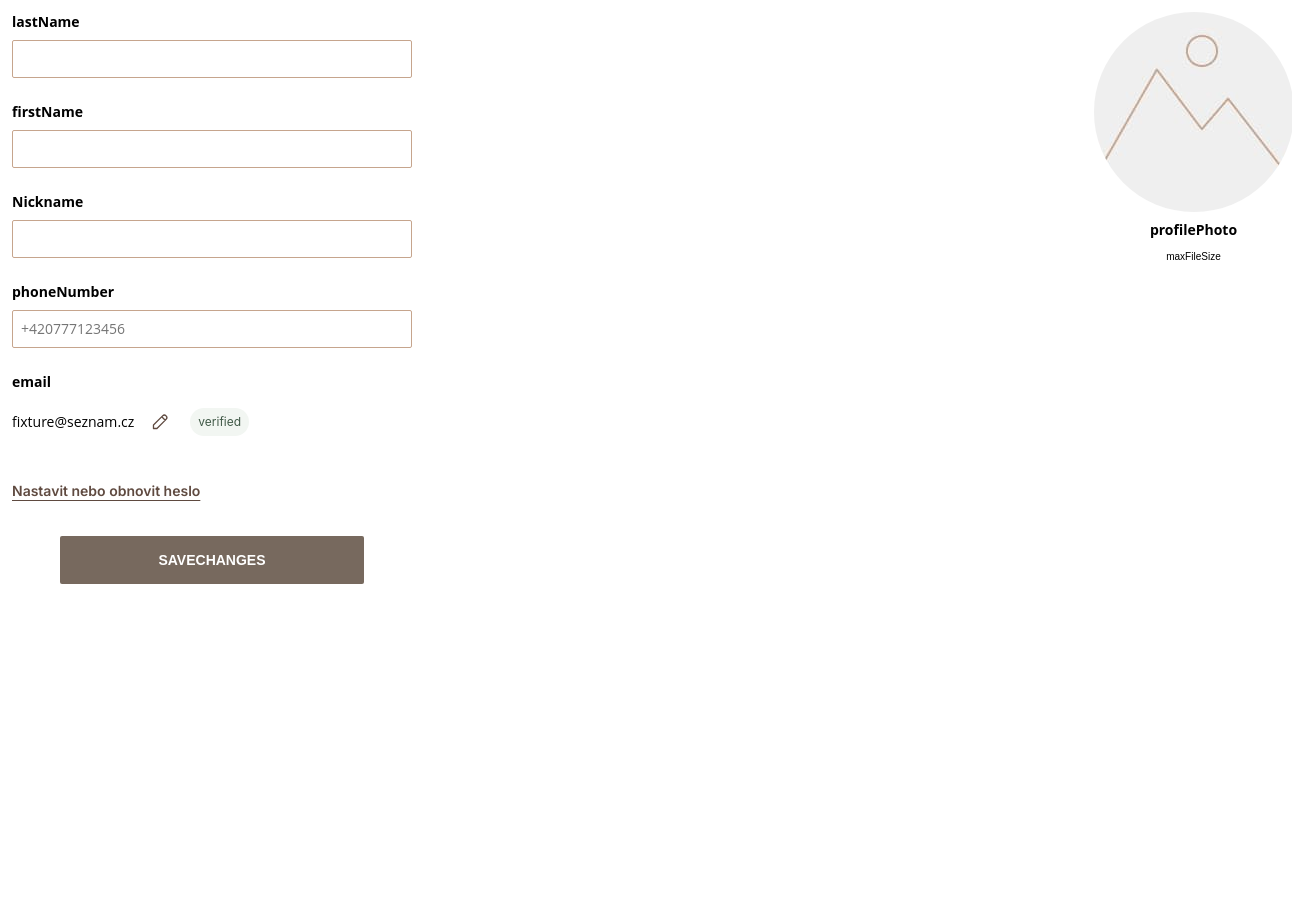
Test: repeat profile save is available and a server error is shown next to the form
Type "Mykhailo" into the field labelled "firstName" at {"x": 212, "y": 149}, box [12,130,412,168]
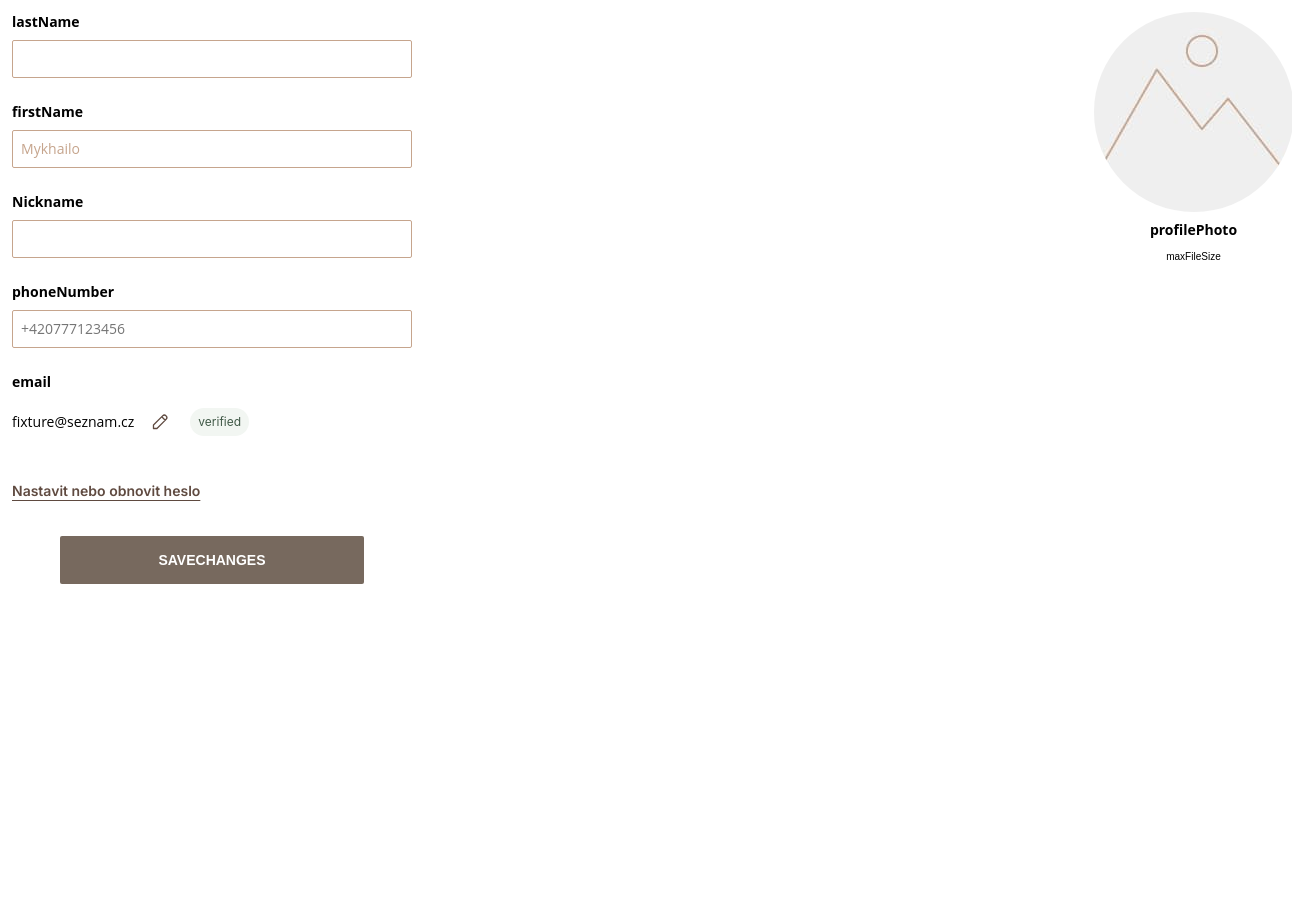
Type "Stryzhka" into the field labelled "lastName" at {"x": 212, "y": 59}, box [12,40,412,78]
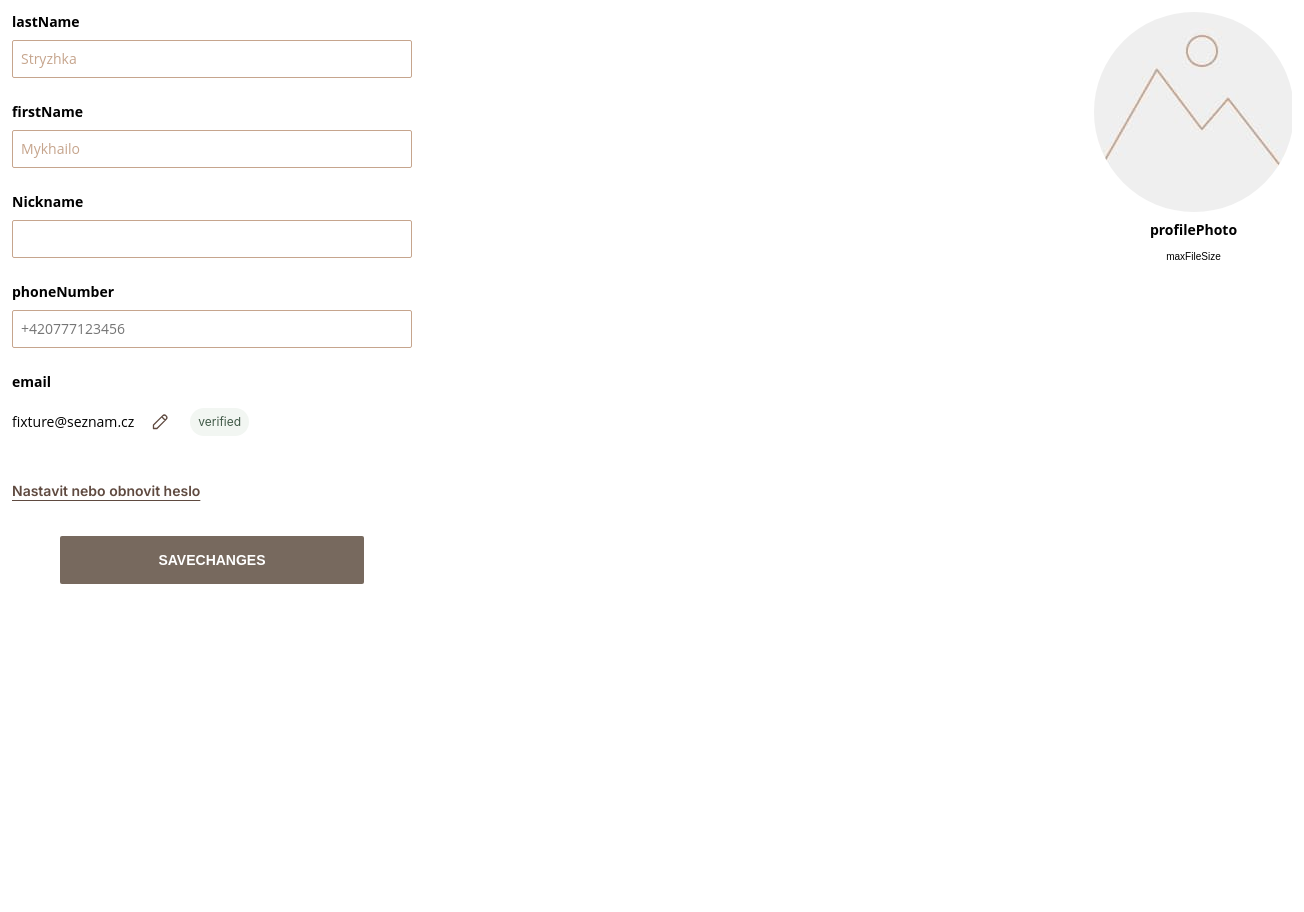
Type "@mykhailo.test" into the field labelled "Nickname" at {"x": 212, "y": 239}, box [12,220,412,258]
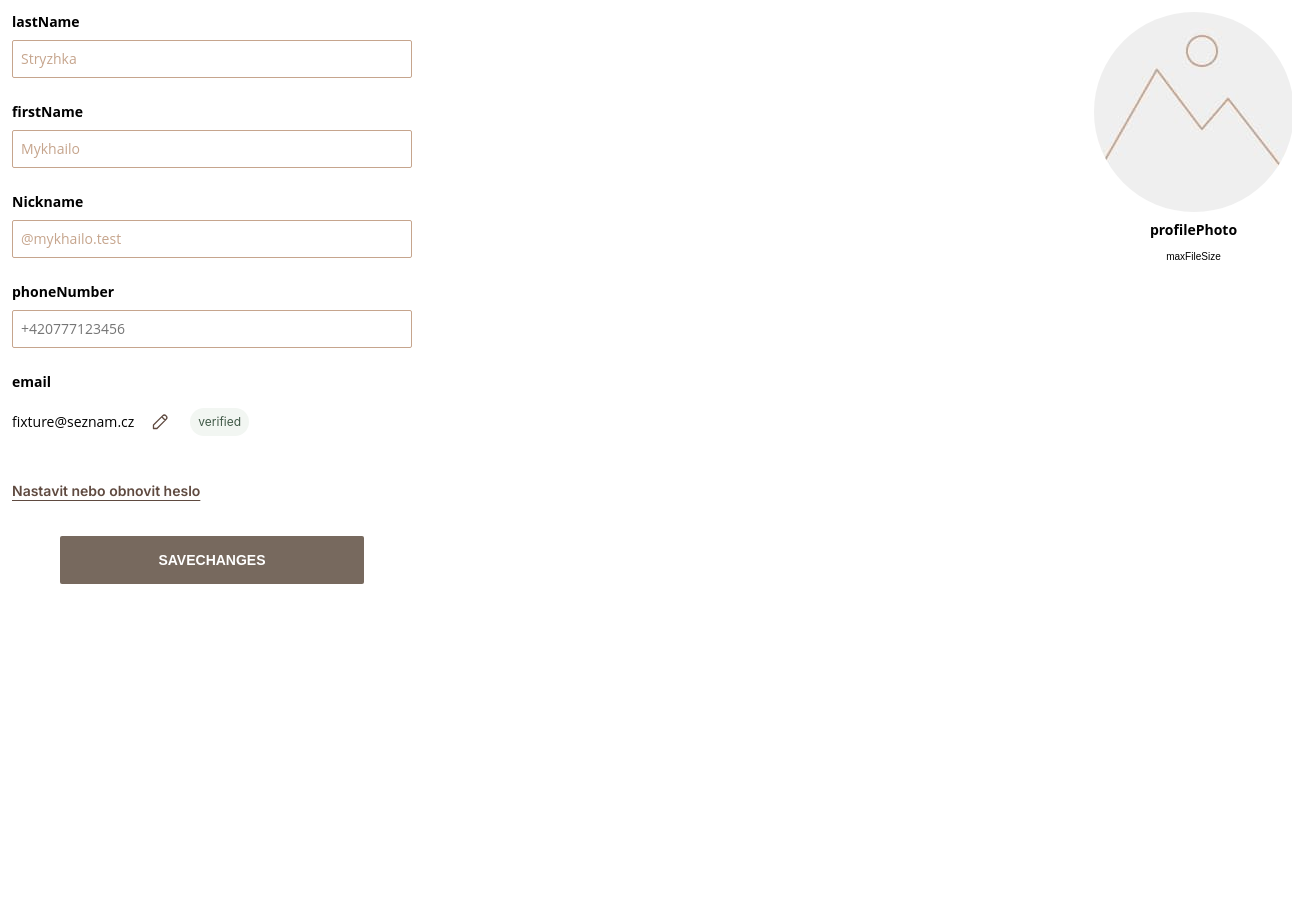
Click the button "saveChanges" at {"x": 212, "y": 560}, box [60,536,364,584]
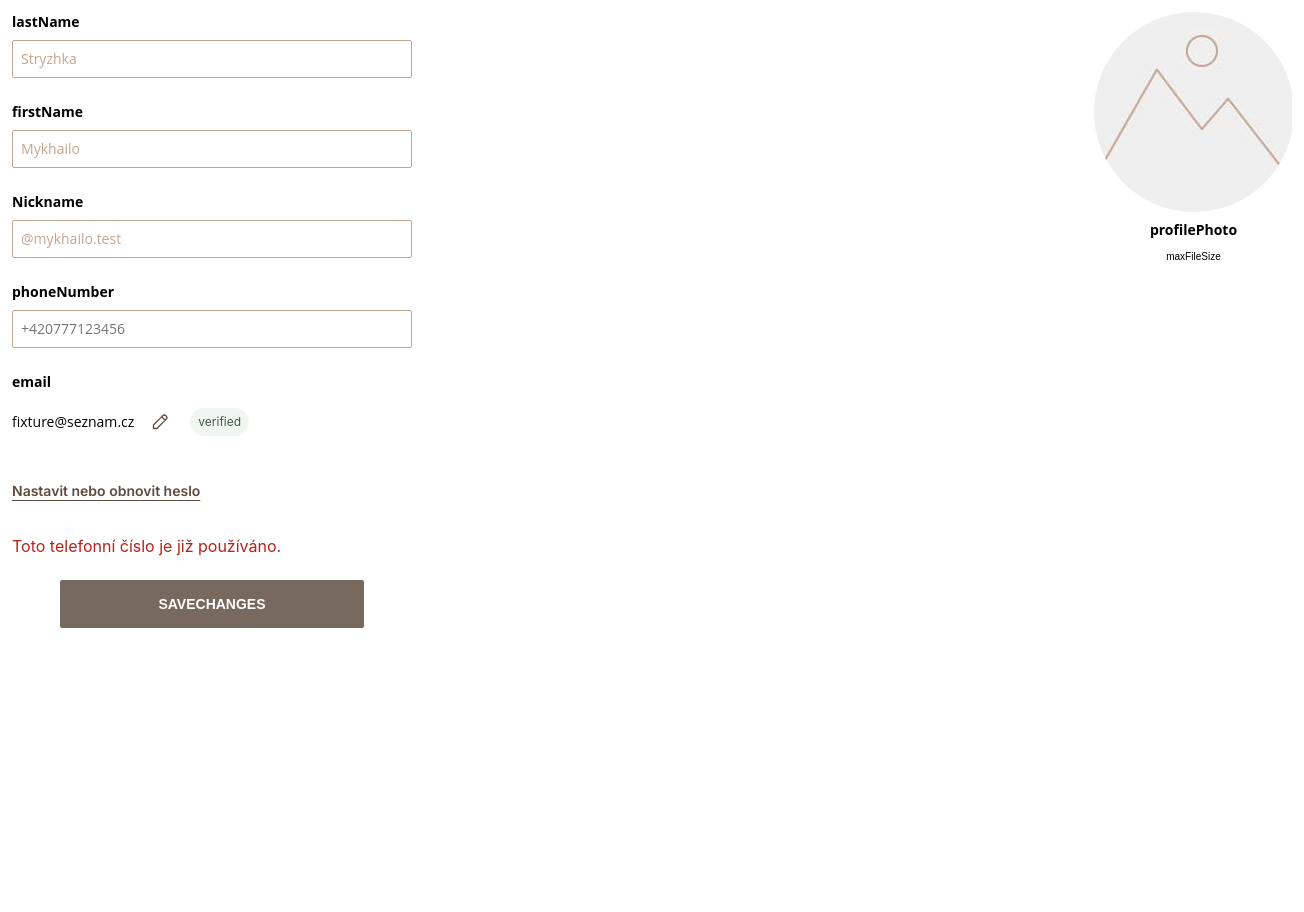
Expected: the message reads "Toto telefonní číslo je již používáno.", [12,536,281,556]
